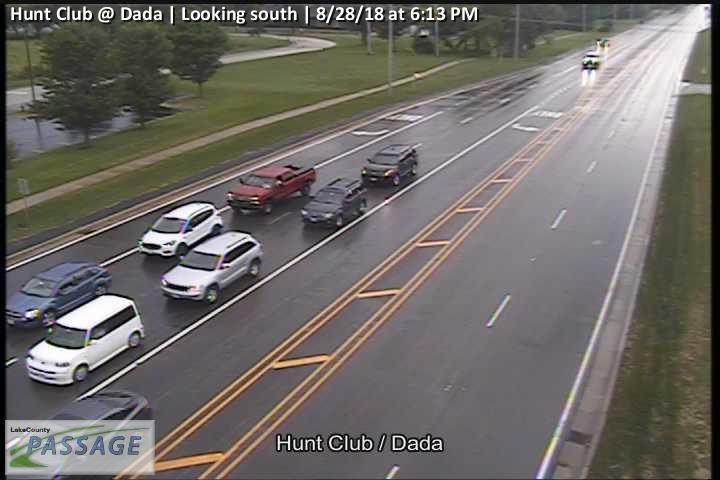SUV: (27, 293, 145, 387)
Sedan: (159, 230, 264, 303), (5, 263, 112, 330), (139, 200, 223, 260), (302, 177, 368, 227), (361, 142, 419, 183), (582, 50, 601, 69)
Truck: (226, 160, 318, 213)
